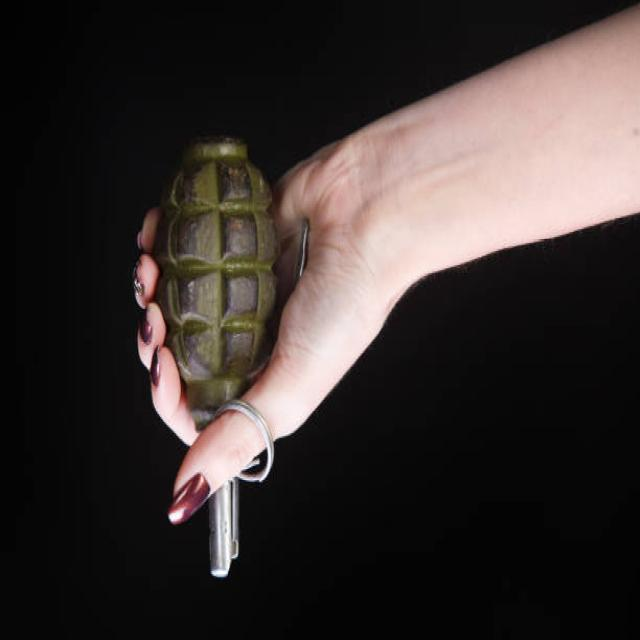grenade: (148, 132, 315, 587)
